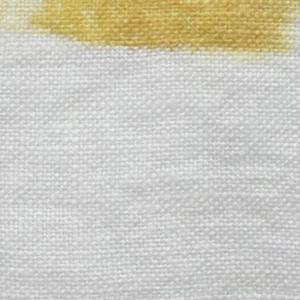Oil Stain: (1, 1, 300, 59)
